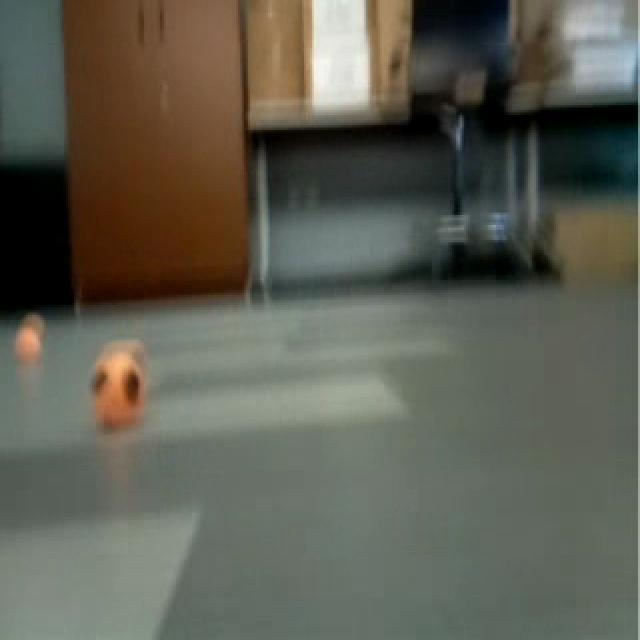ping-pong-ball: (84, 342, 150, 434), (12, 321, 44, 362)
